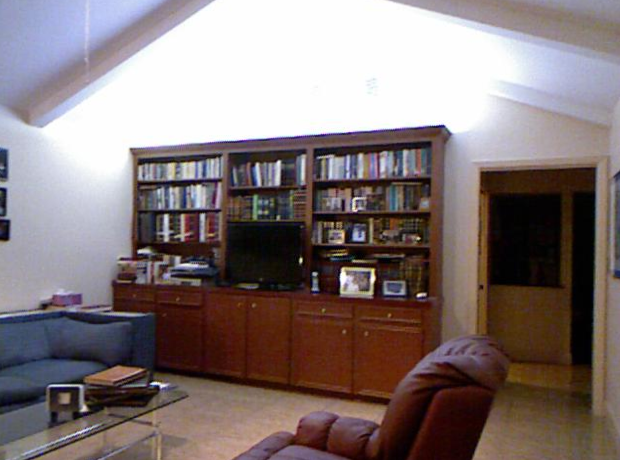cabinet: (132, 139, 452, 279)
cabinetDoor: (292, 323, 351, 384), (248, 298, 287, 379), (206, 297, 247, 371), (158, 311, 201, 368), (357, 327, 395, 388), (361, 308, 418, 321), (294, 303, 351, 316), (157, 293, 200, 305), (119, 291, 153, 301)
couch: (275, 348, 496, 460), (0, 311, 152, 367)
openedDoor: (471, 161, 606, 411)
